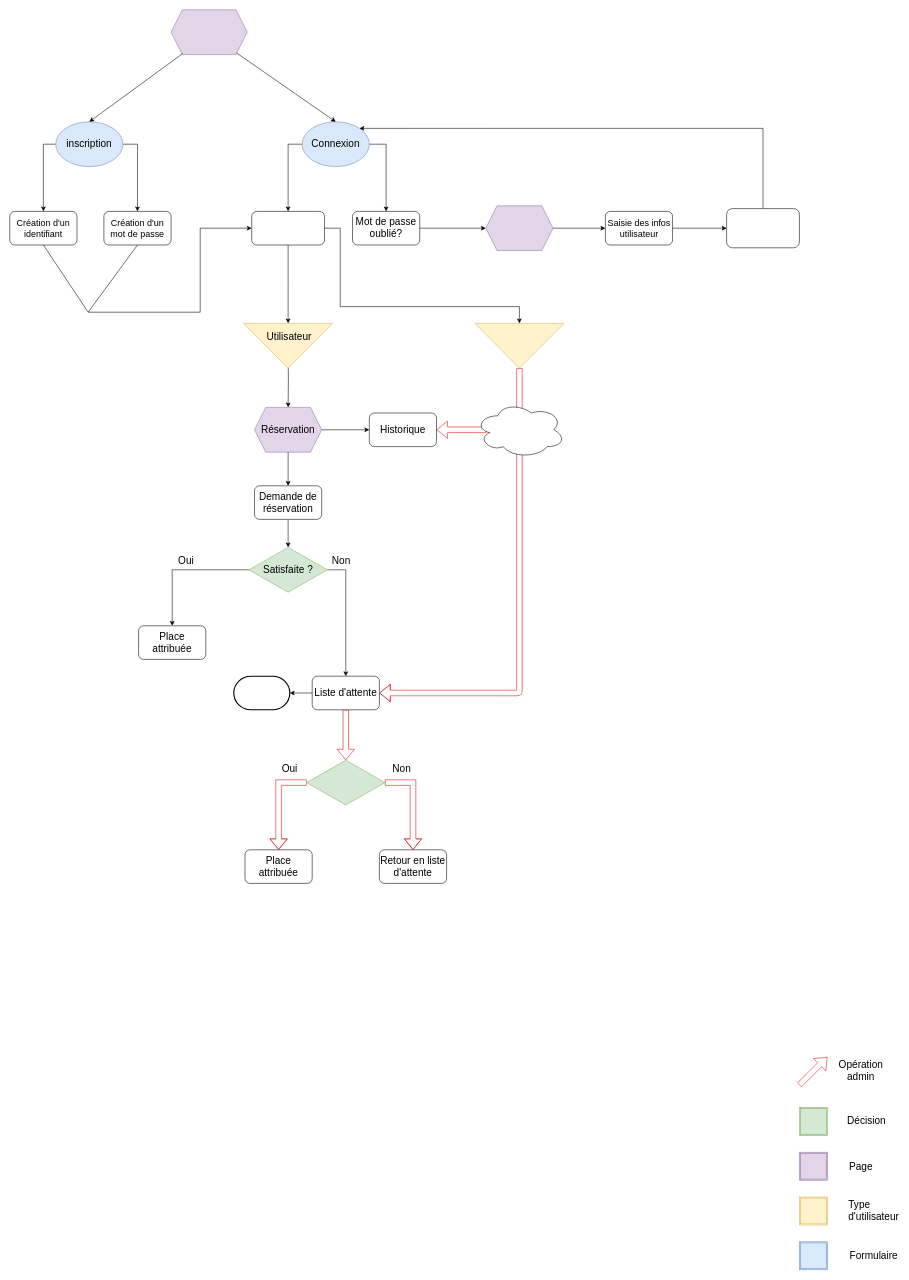
Some shapes in this 909 by 1280 pixel diagram are drawn without their labels. Here are the shapes that lost their labels. From the top down, the centre of each, then its label:
At (209,32): "Page d'accueil".
At (288,228): "Authentification".
At (519,228): "Reset password".
At (762,228): "Changement de mot de passe".
At (519,345): "Admin".
At (520,429): "Consulter".
At (261,692): "Rang".
At (345,782): "Place libre ?".
